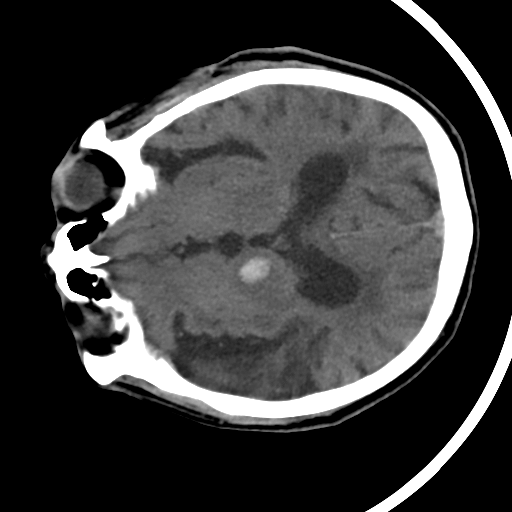a: (224, 246, 287, 299)
